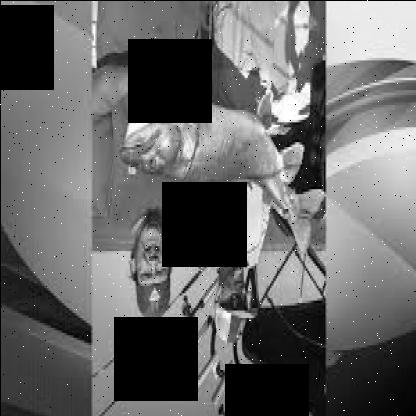fish: (119, 92, 328, 256)
